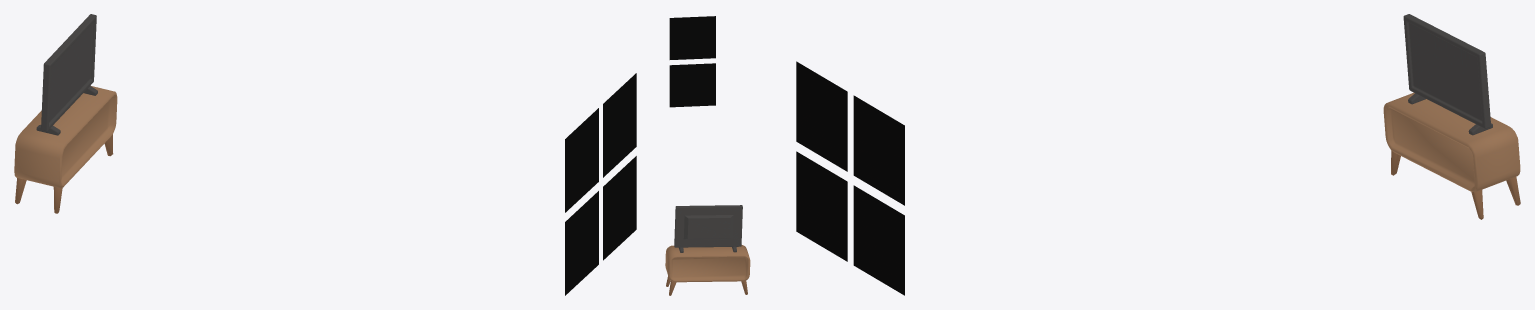
The model's file is television.glb.
3 views of the same model, side by side, from view 1: azimuth 30°, elevation 25°; view 2: azimuth 150°, elevation 25°; view 3: azimuth 270°, elevation 25° (orthographic). The views are drawn at different scales.
Parts seen in each view (by area): view 1: cupboard.001; view 2: cupboard.001; view 3: cupboard.001.
Part boxes in pixels (x1,y1,x2,y2): cupboard.001: (14, 14, 636, 295); cupboard.001: (665, 16, 750, 295); cupboard.001: (796, 14, 1520, 295).
Bounding box in the file's own units: 5.89 × 3.23 × 8.92.
1 material, 1 textured.
